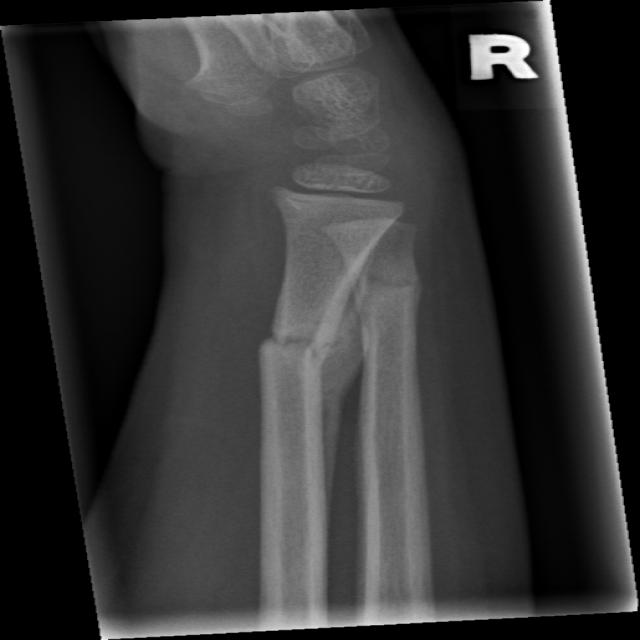radius fracture: (209, 287, 391, 454)
